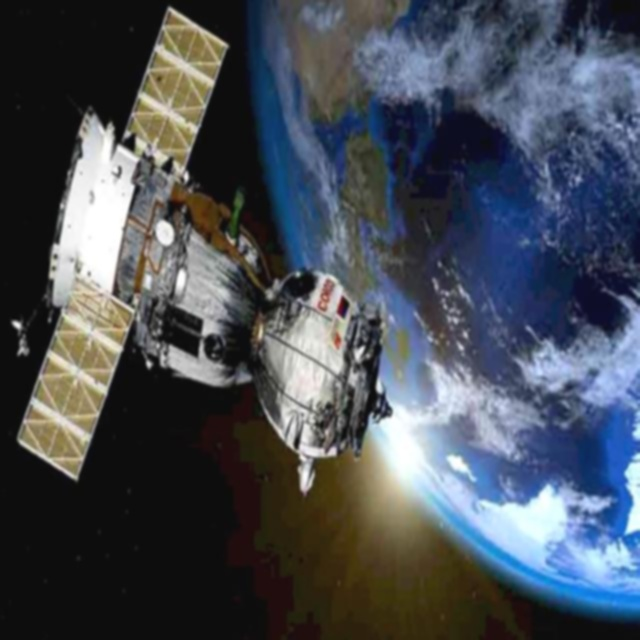satellite: (0, 3, 401, 517)
